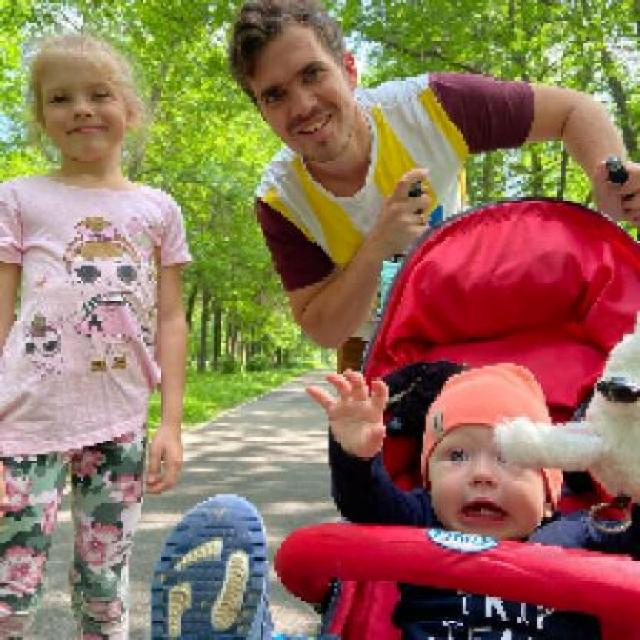child: (0, 30, 195, 638), (300, 360, 637, 637)
